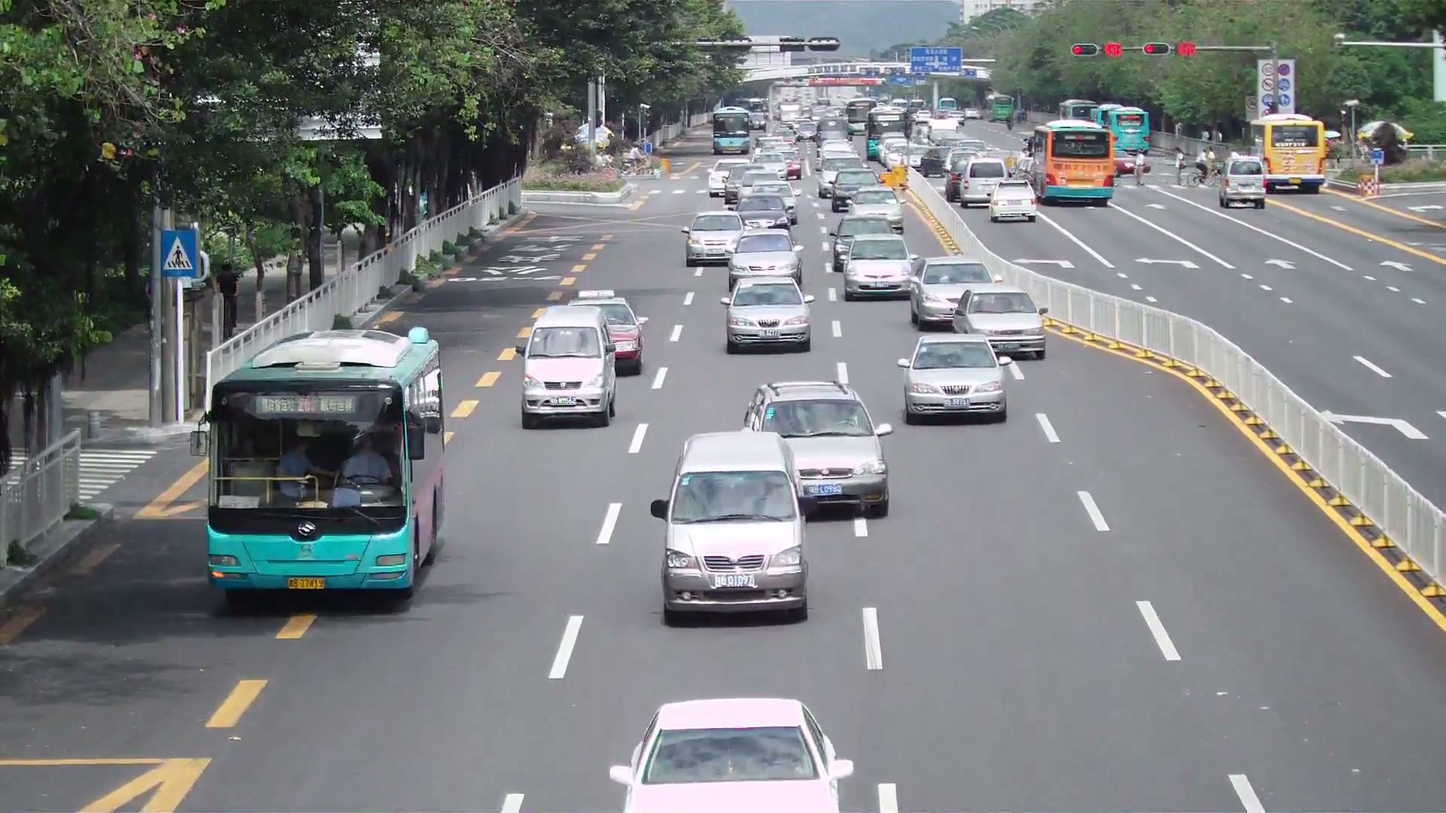bus: (198, 327, 448, 604), (1027, 119, 1117, 207), (1247, 114, 1330, 193), (1087, 103, 1152, 171)
car: (651, 429, 812, 625), (613, 697, 855, 811), (742, 378, 892, 520), (519, 309, 618, 429), (901, 332, 1010, 426), (953, 283, 1047, 360), (723, 278, 813, 354), (560, 296, 646, 375), (908, 255, 995, 327), (725, 227, 805, 296), (842, 232, 916, 302), (683, 210, 745, 266), (1218, 153, 1268, 208), (737, 187, 798, 232), (989, 180, 1036, 224)
pedestrian: (339, 429, 392, 484), (277, 428, 315, 475)
truck: (1028, 119, 1117, 206), (1247, 114, 1331, 192), (1218, 153, 1267, 209)
